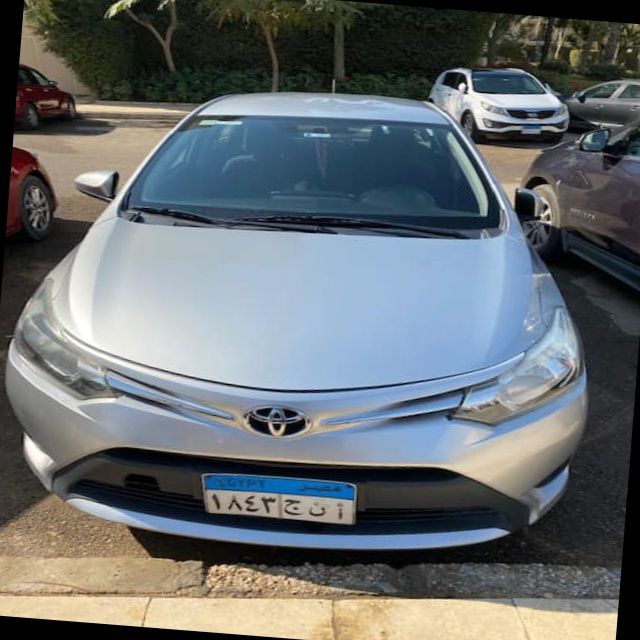License Plate: (196, 469, 361, 530)
